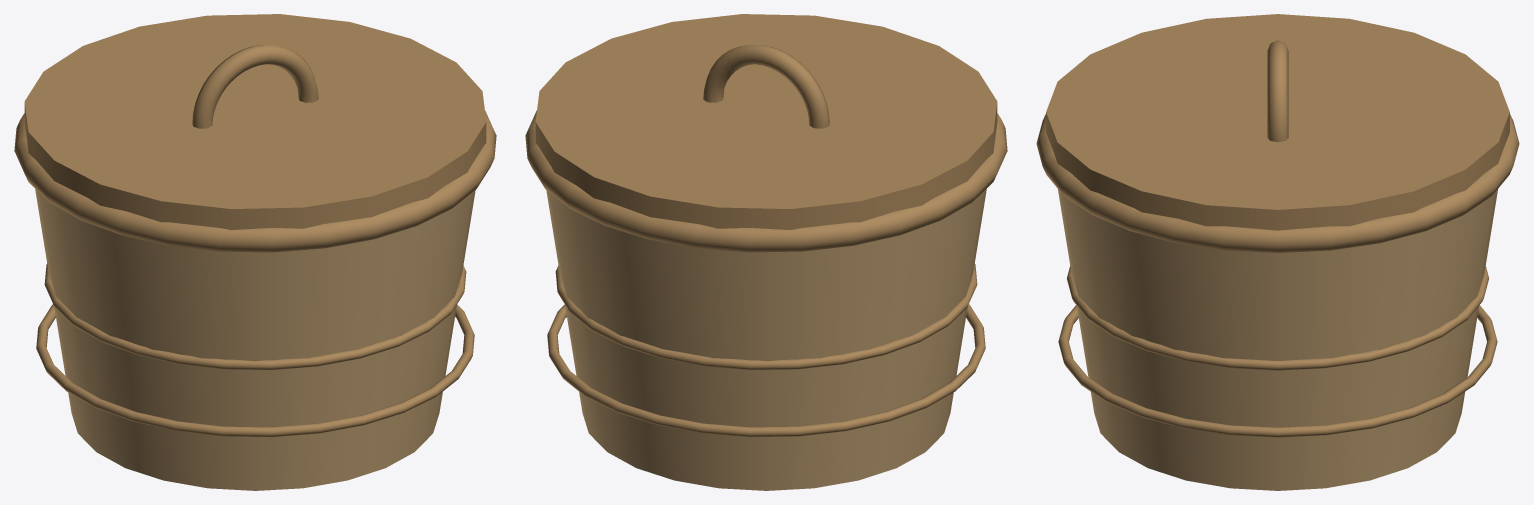
File: basket-woven-01.glb
3 views of the same model, side by side, from view 1: azimuth 30°, elevation 25°; view 2: azimuth 150°, elevation 25°; view 3: azimuth 270°, elevation 25° (orthographic).
Parts seen in each view (by area): view 1: body, lid, rim, weave-0, weave-1, handle; view 2: body, lid, rim, weave-0, weave-1, handle; view 3: body, lid, rim, weave-0, weave-1, handle.
Part boxes in pixels (left/top/right/bottom): body: left=35, top=188, right=475, bottom=490; lid: left=24, top=14, right=486, bottom=230; rim: left=14, top=110, right=496, bottom=252; weave-0: left=36, top=304, right=474, bottom=437; weave-1: left=44, top=263, right=466, bottom=369; handle: left=192, top=45, right=318, bottom=128; body: left=546, top=188, right=986, bottom=490; lid: left=535, top=14, right=997, bottom=230; rim: left=525, top=110, right=1007, bottom=252; weave-0: left=547, top=304, right=985, bottom=437; weave-1: left=555, top=263, right=977, bottom=369; handle: left=703, top=45, right=829, bottom=128; body: left=1058, top=189, right=1497, bottom=490; lid: left=1046, top=14, right=1509, bottom=230; rim: left=1036, top=114, right=1519, bottom=252; weave-0: left=1058, top=305, right=1497, bottom=437; weave-1: left=1067, top=266, right=1488, bottom=370; handle: left=1267, top=40, right=1288, bottom=142.
Bounding box in the file's own units: 0.552 × 0.462 × 0.552.
